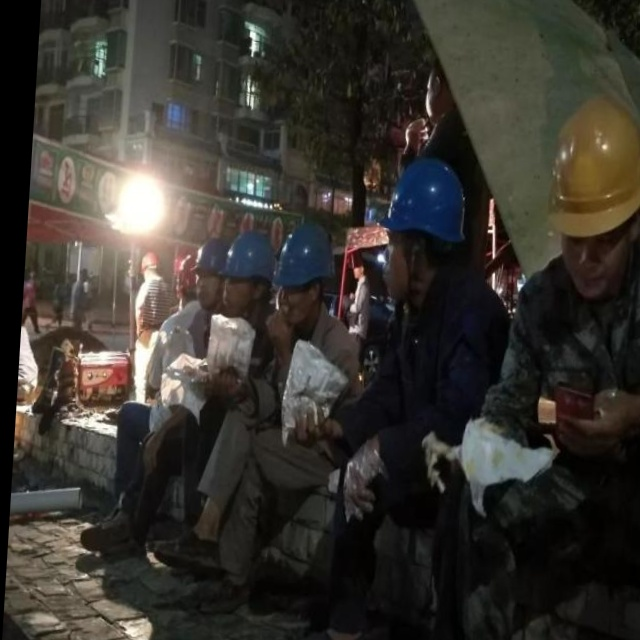Con_Casco: (542, 91, 640, 282), (379, 153, 463, 302)
